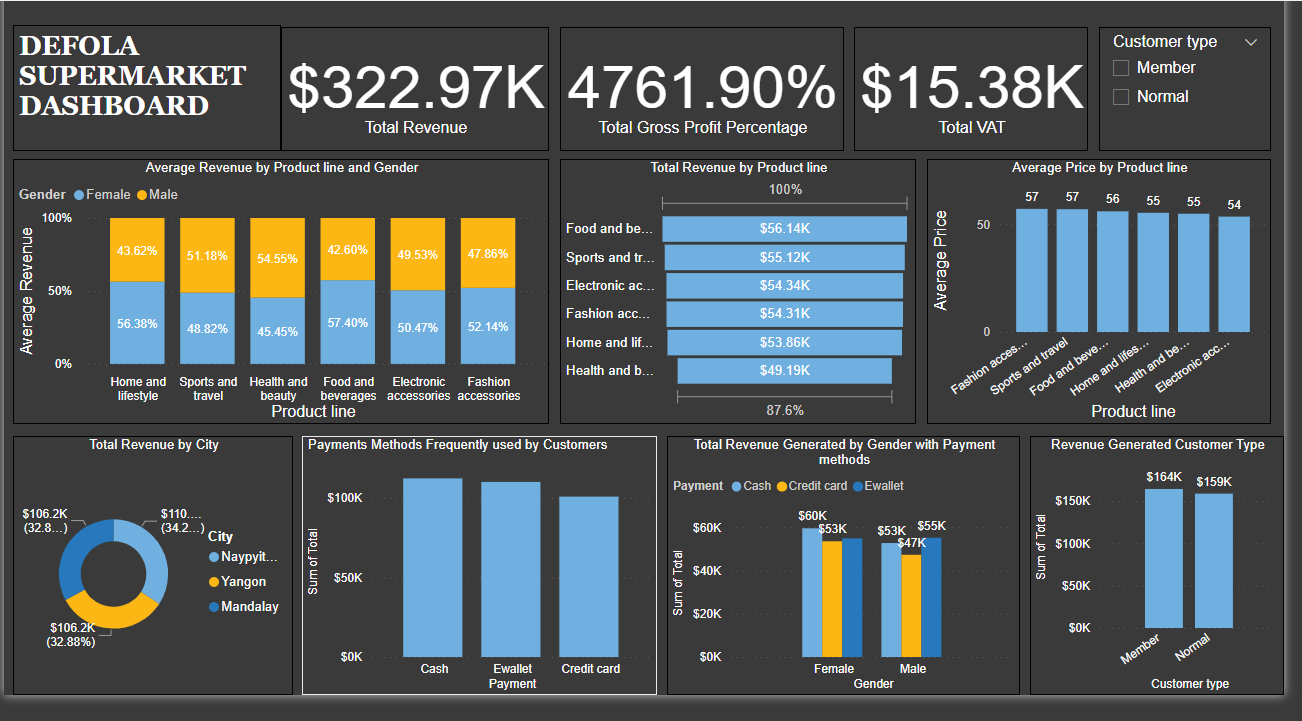

What the dashboard file says about the page in this screenshot:
{"tool":"powerbi","page":{"name":"Page 1","canvas":[1280,720],"ordinal":0},"visuals":[{"type":"card","fields":{"Values":["Calculations.Total Revenue"]},"box":[277,52,268,124],"z":0},{"type":"card","fields":{"Values":["Calculations.Gross Profit v"]},"box":[556,52,284,124],"z":1000},{"type":"donutChart","fields":{"Category":["supermarket_sales - Sheet1.City"],"Y":["Calculations.Total Revenue"]},"box":[9,461,280,259],"z":2000},{"type":"funnel","fields":{"Category":["supermarket_sales - Sheet1.Product line"],"Y":["Calculations.Total Revenue"]},"box":[556,184,356,265],"z":3000},{"type":"clusteredColumnChart","title":"Revenue Generated  Customer Type","fields":{"Category":["supermarket_sales - Sheet1.Customer type"],"Y":["Sum(supermarket_sales - Sheet1.Total)"]},"box":[1026,461,254,259],"z":4000},{"type":"clusteredColumnChart","fields":{"Category":["supermarket_sales - Sheet1.Product line"],"Y":["Calculations.Average Price"]},"box":[923,184,344,265],"z":5000},{"type":"clusteredColumnChart","title":"Payments Methods Frequently used by Customers","fields":{"Category":["supermarket_sales - Sheet1.Payment"],"Y":["Sum(supermarket_sales - Sheet1.Total)"]},"box":[298,461,355,259],"z":6000},{"type":"clusteredColumnChart","title":"Total Revenue Generated by Gender with Payment methods","fields":{"Category":["supermarket_sales - Sheet1.Gender"],"Series":["supermarket_sales - Sheet1.Payment"],"Y":["Sum(supermarket_sales - Sheet1.Total)"]},"box":[663,461,353,259],"z":7000},{"type":"hundredPercentStackedColumnChart","fields":{"Category":["supermarket_sales - Sheet1.Product line"],"Y":["Calculations.Average Revenue"],"Series":["supermarket_sales - Sheet1.Gender"]},"box":[9,184,536,265],"z":8000},{"type":"card","fields":{"Values":["Calculations.Total Tax"]},"box":[850,52,234,124],"z":9000},{"type":"slicer","fields":{"Values":["supermarket_sales - Sheet1.Customer type"]},"box":[1095,52,172,124],"z":10000},{"type":"textbox","box":[9,50,268,126],"z":11000}]}

Visuals, with their boxes in screenshot pixels (x1, y1, x2, y2), scaled from the page's 1280x720 canvas onto the 1302x721 screenshot:
card - Calculations.Total Revenue: <region>282, 52, 554, 176</region>
card - Calculations.Gross Profit v: <region>566, 52, 854, 176</region>
donutChart - supermarket_sales - Sheet1.City x Calculations.Total Revenue: <region>9, 462, 294, 720</region>
funnel - supermarket_sales - Sheet1.Product line x Calculations.Total Revenue: <region>566, 184, 928, 450</region>
"Revenue Generated  Customer Type" clusteredColumnChart: <region>1044, 462, 1301, 720</region>
clusteredColumnChart - supermarket_sales - Sheet1.Product line x Calculations.Average Price: <region>939, 184, 1289, 450</region>
"Payments Methods Frequently used by Customers" clusteredColumnChart: <region>303, 462, 664, 720</region>
"Total Revenue Generated by Gender with Payment methods" clusteredColumnChart: <region>674, 462, 1033, 720</region>
hundredPercentStackedColumnChart - supermarket_sales - Sheet1.Product line x Calculations.Average Revenue: <region>9, 184, 554, 450</region>
card - Calculations.Total Tax: <region>865, 52, 1103, 176</region>
slicer - supermarket_sales - Sheet1.Customer type: <region>1114, 52, 1289, 176</region>
textbox: <region>9, 50, 282, 176</region>
